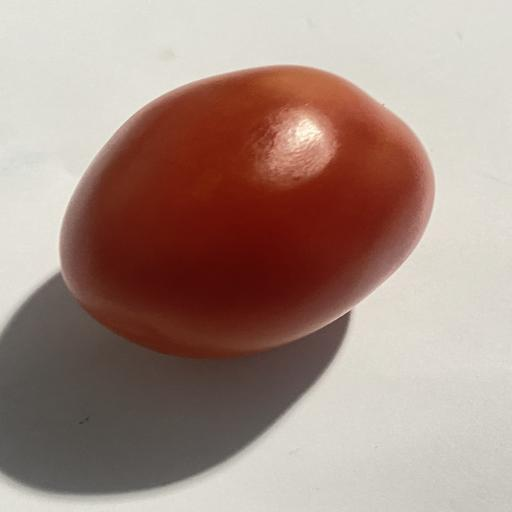ripe: (60, 66, 434, 358)
